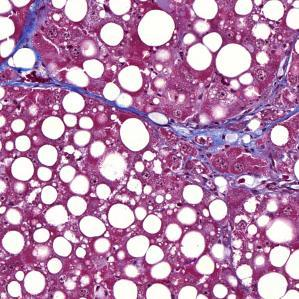fibrosis: (169, 110, 270, 177)
